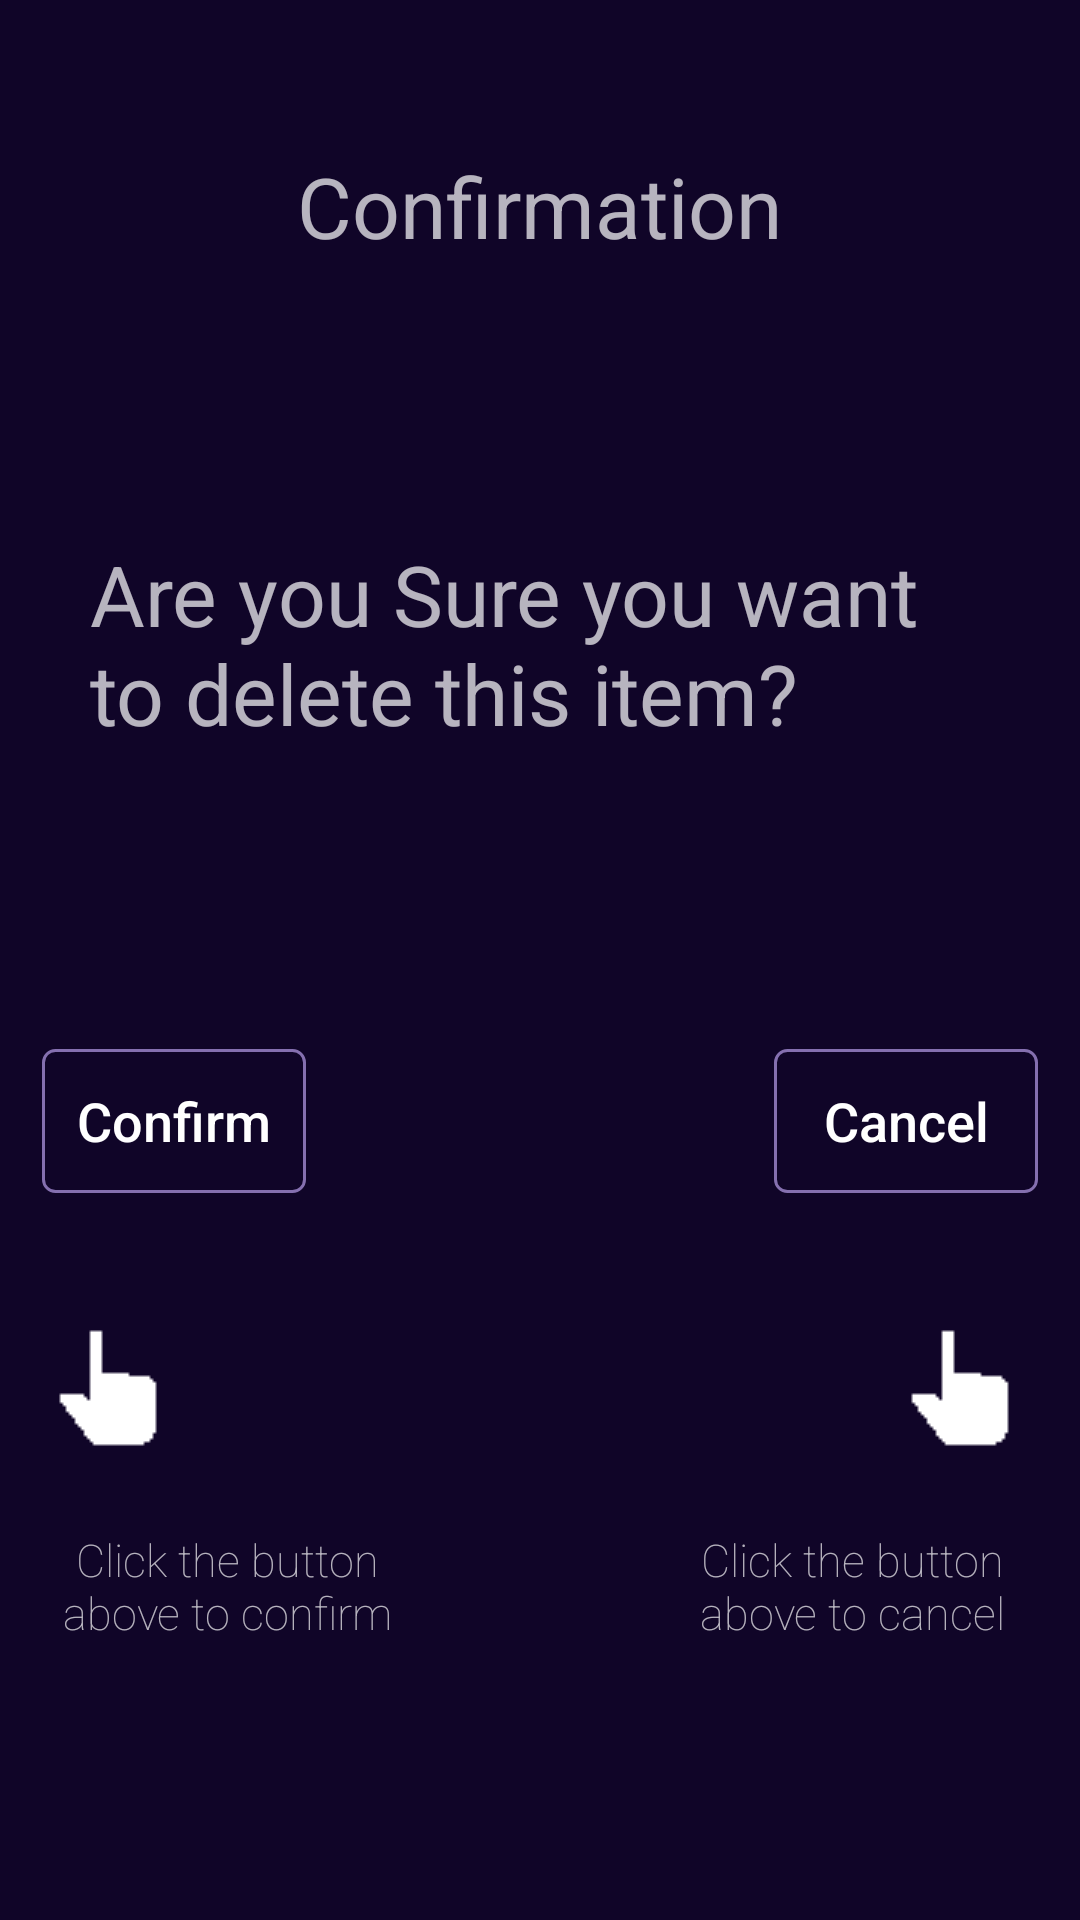

Icons on this 1080*1920 Android screen, each with its box as (x1, y1, x2, y2):
pointer: (59, 1330, 157, 1446), (911, 1330, 1009, 1446)
